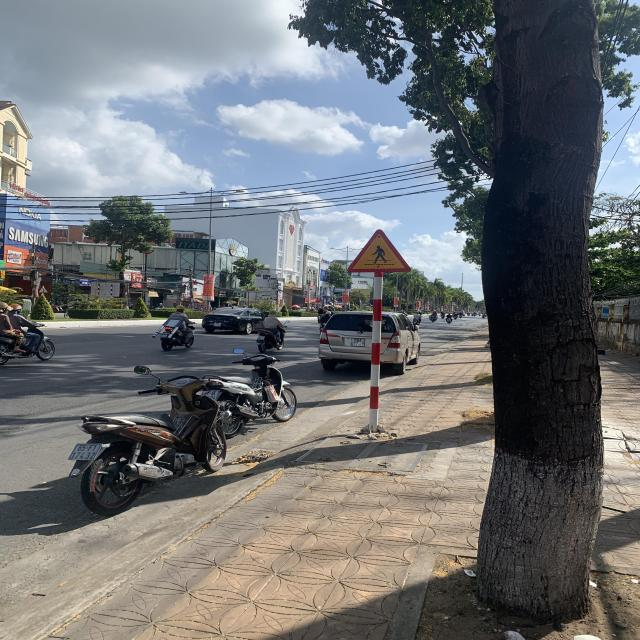Duong_Nguoi_Di_Bo_Sang_Ngang: (346, 229, 411, 272)
